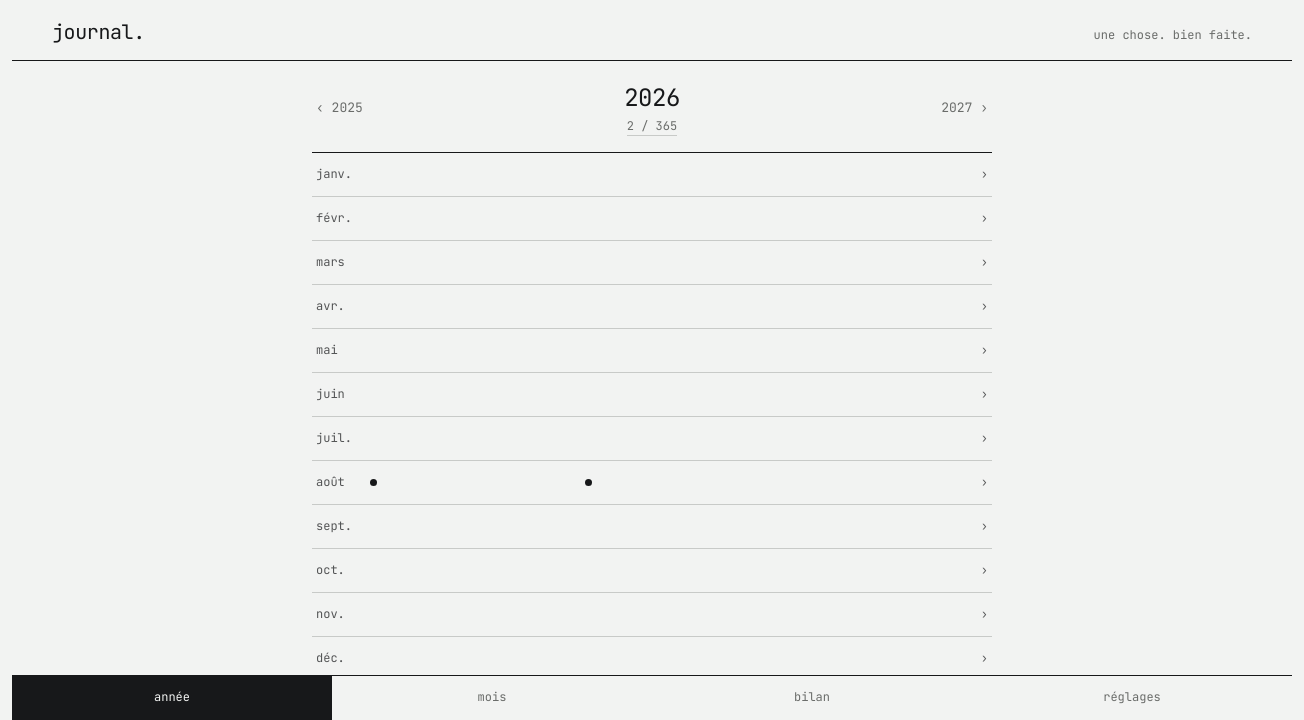
Test: JournalApp › saute les jours vides d’un jour écrit au précédent
Click the button with aria-label "août 2026" at {"x": 330, "y": 482}, box [312,461,992,505]
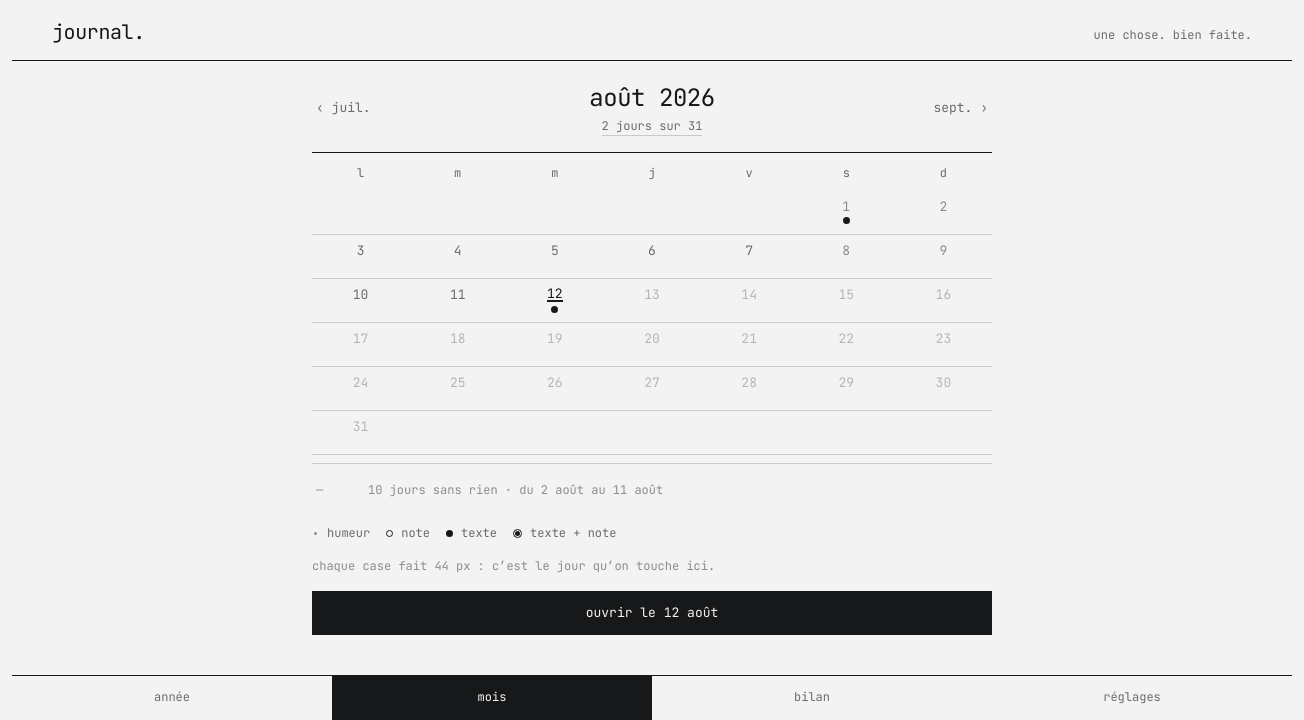
Click the button named "12 août 2026" at {"x": 555, "y": 301}, box [506,279,603,323]
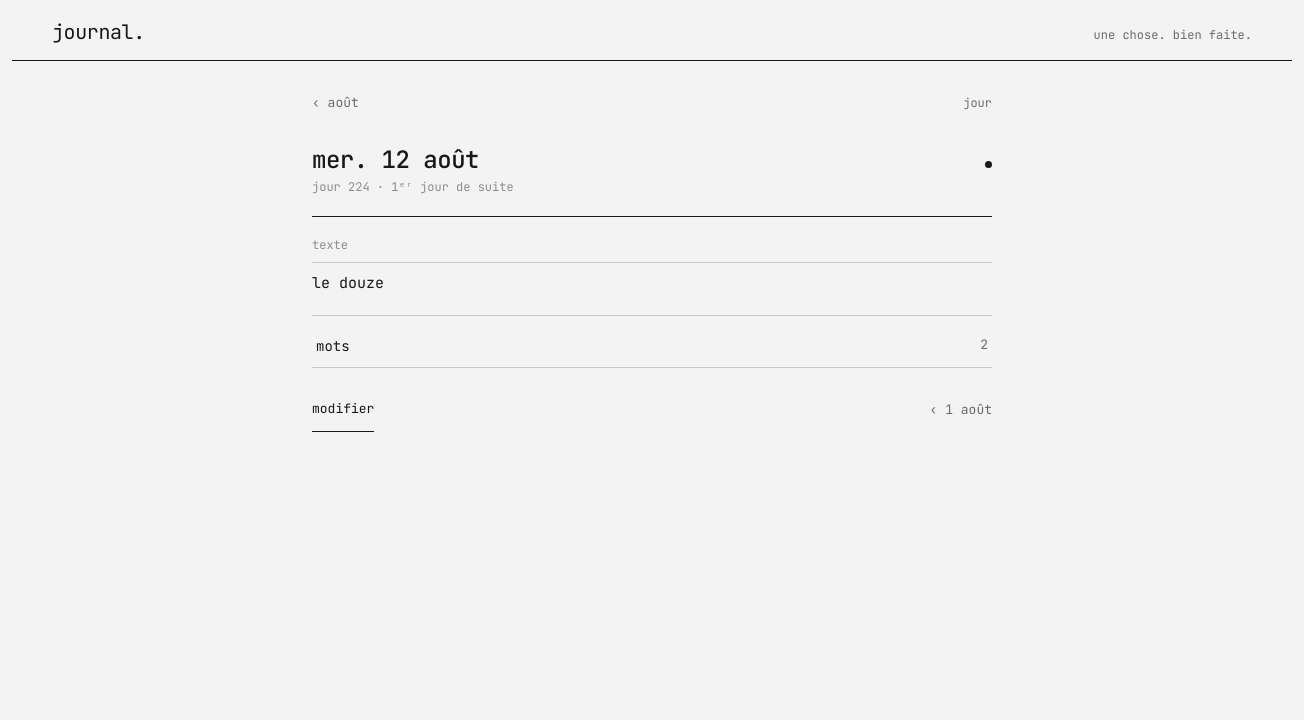
Click the button with aria-label "jour écrit précédent : 1 août" at {"x": 961, "y": 410}, box [930,388,992,432]
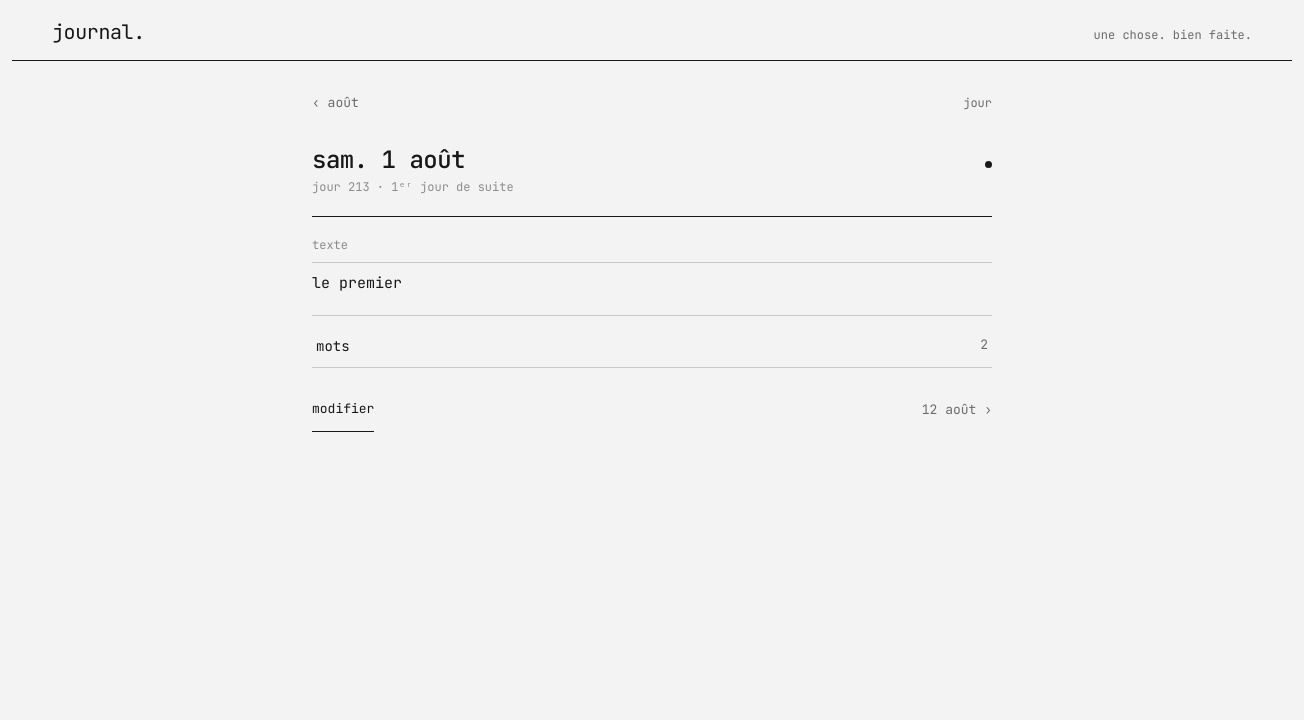
Expected: the text "le premier" is shown, [312,273,402,293]
